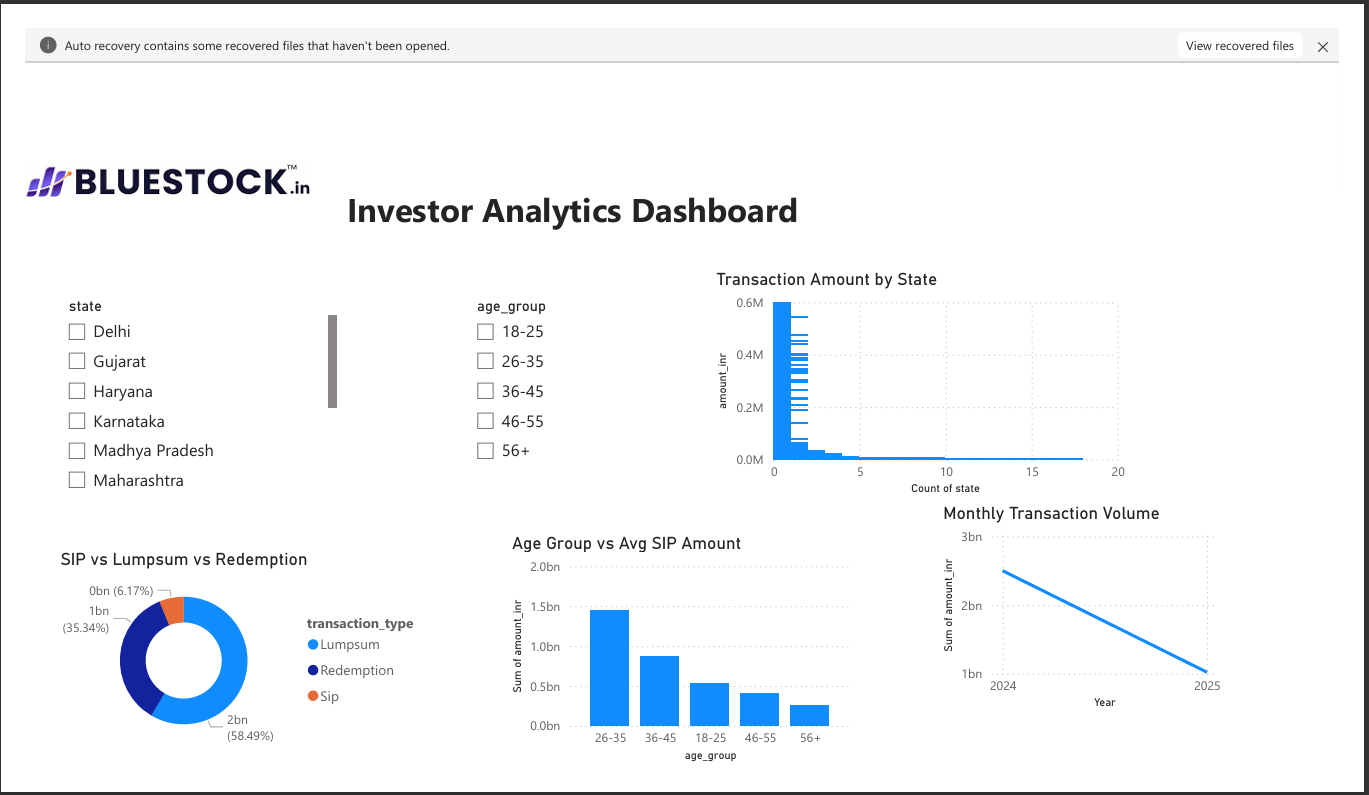

Layout of this report page (visuals, bound fields, positions):
{"tool":"powerbi","page":{"name":"Investor Analytics","canvas":[1280,720],"ordinal":2},"visuals":[{"type":"clusteredBarChart","title":"Transaction Amount by State","fields":{"Category":["investor_transactions_clean.amount_inr"],"Y":["CountNonNull(investor_transactions_clean.state)"]},"box":[667.8,234.4,407.8,224.8],"z":0},{"type":"donutChart","title":"SIP vs Lumpsum vs Redemption","fields":{"Category":["investor_transactions_clean.transaction_type"],"Y":["Sum(investor_transactions_clean.amount_inr)"]},"box":[28.9,507.3,369.2,199.1],"z":1000},{"type":"clusteredColumnChart","title":"Age Group vs Avg SIP Amount","fields":{"Category":["investor_transactions_clean.age_group"],"Y":["Sum(investor_transactions_clean.amount_inr)"]},"box":[468.8,491.3,340.3,228],"z":2000},{"type":"lineChart","title":"Monthly Transaction Volume","fields":{"Category":["investor_transactions_clean.transaction_date.Variation.Date Hierarchy.Year","investor_transactions_clean.transaction_date.Variation.Date Hierarchy.Quarter","investor_transactions_clean.transaction_date.Variation.Date Hierarchy.Month","investor_transactions_clean.transaction_date.Variation.Date Hierarchy.Day"],"Y":["Sum(investor_transactions_clean.amount_inr)"]},"box":[889.4,462.4,279.3,205.5],"z":3000},{"type":"slicer","fields":{"Values":["investor_transactions_clean.state"]},"box":[28.9,256.9,279.3,205.5],"z":4000},{"type":"slicer","fields":{"Values":["investor_transactions_clean.age_group"]},"box":[427,256.9,211.9,179.8],"z":5000},{"type":"textbox","box":[308.2,147.7,462.4,70.6],"z":6000},{"type":"image","box":[0,86.7,279.3,122],"z":7000}]}

Visuals, with their boxes on the page's 1280x720 design canvas (x1, y1, x2, y2). These are canvas units, not pixel positions in the 1369x795 screenshot, which may show the page scaled, cropped or inside an application window:
"Transaction Amount by State" clusteredBarChart: 668 234 1076 459
"SIP vs Lumpsum vs Redemption" donutChart: 29 507 398 706
"Age Group vs Avg SIP Amount" clusteredColumnChart: 469 491 809 719
"Monthly Transaction Volume" lineChart: 889 462 1169 668
slicer - investor_transactions_clean.state: 29 257 308 462
slicer - investor_transactions_clean.age_group: 427 257 639 437
textbox: 308 148 771 218
image: 0 87 279 209
